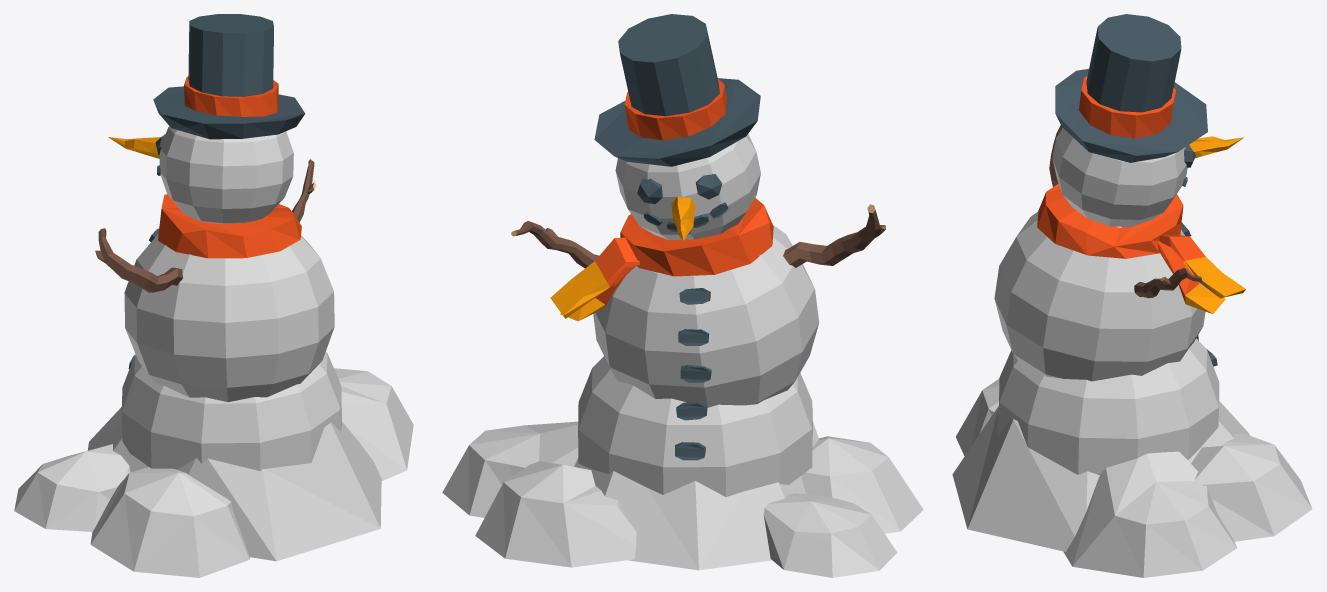
File: Snowman.fbx
3 views of the same model, side by side, from view 1: azimuth 30°, elevation 25°; view 2: azimuth 150°, elevation 25°; view 3: azimuth 270°, elevation 25° (orthographic). The views are drawn at different scales.
Parts seen in each view (by area): view 1: group1452526837; view 2: group1452526837; view 3: group1452526837.
Part boxes in pixels (bbox=[...]): group1452526837: bbox=[14, 14, 413, 577]; group1452526837: bbox=[442, 14, 923, 577]; group1452526837: bbox=[952, 14, 1312, 577].
Bounding box in the file's own units: 1.07 × 1.21 × 0.8406.
